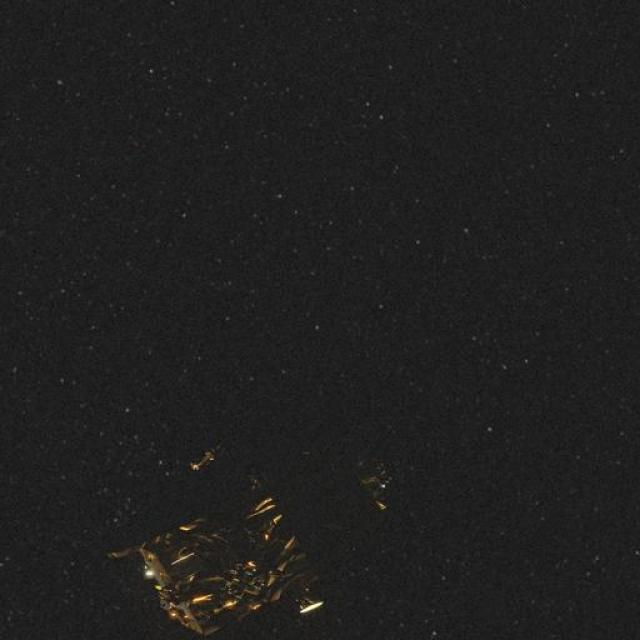lisa_pathfinder: (87, 424, 392, 634)
